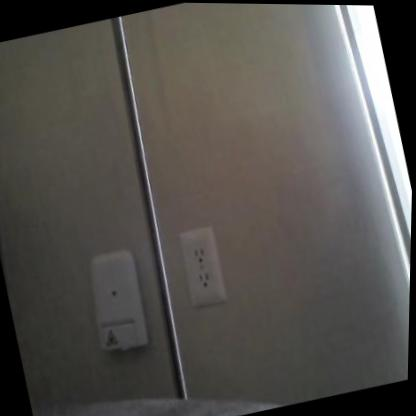OUTLET: (176, 224, 230, 310)
